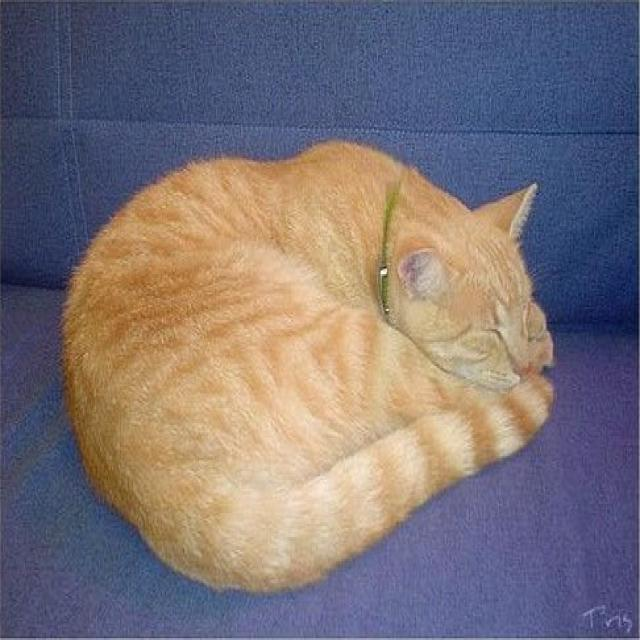cat: (60, 139, 557, 589)
